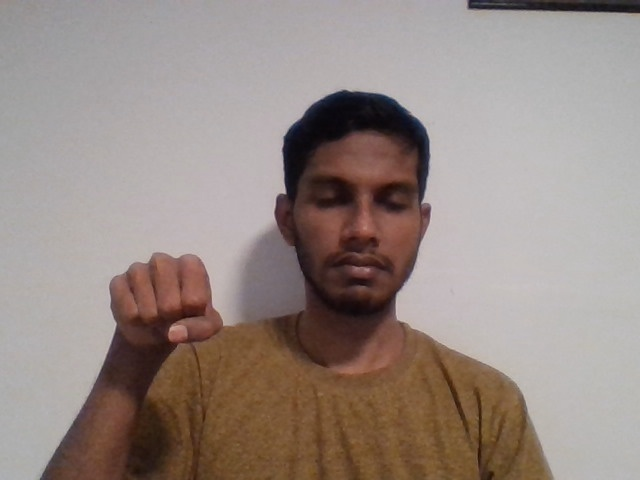yes: (104, 250, 232, 363)
